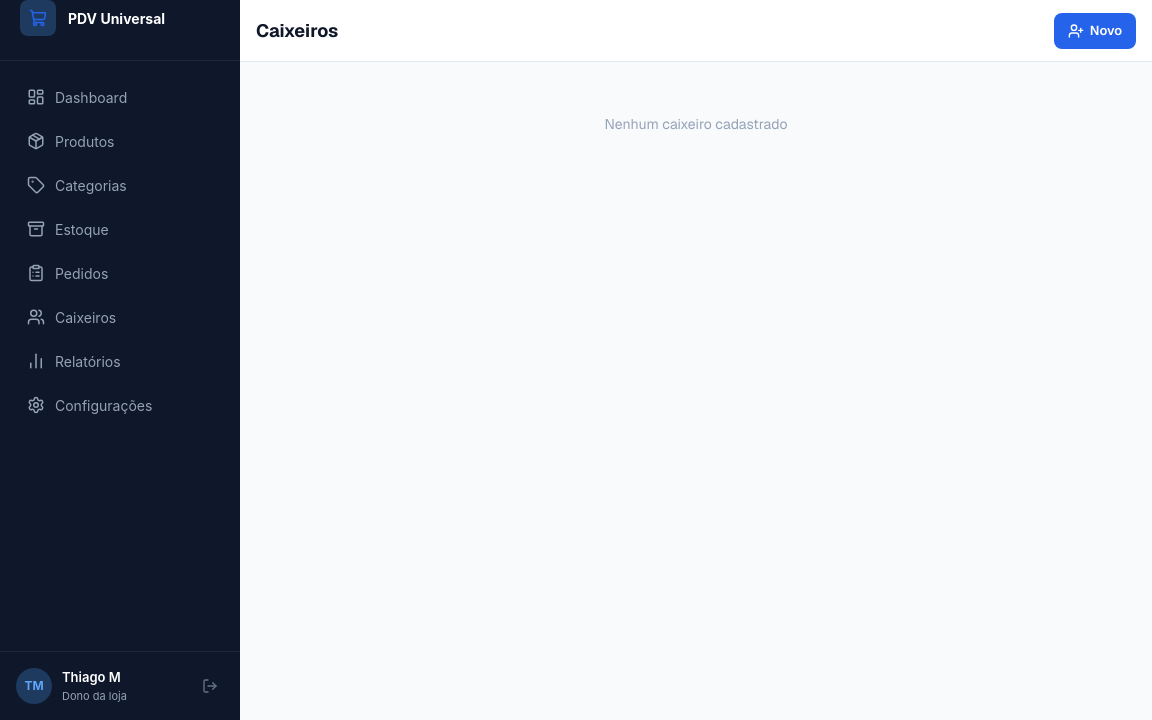
Test: UsuariosPage › shows error message when creation fails
Click the button "Novo" at (1095, 30), box [1054, 12, 1136, 48]
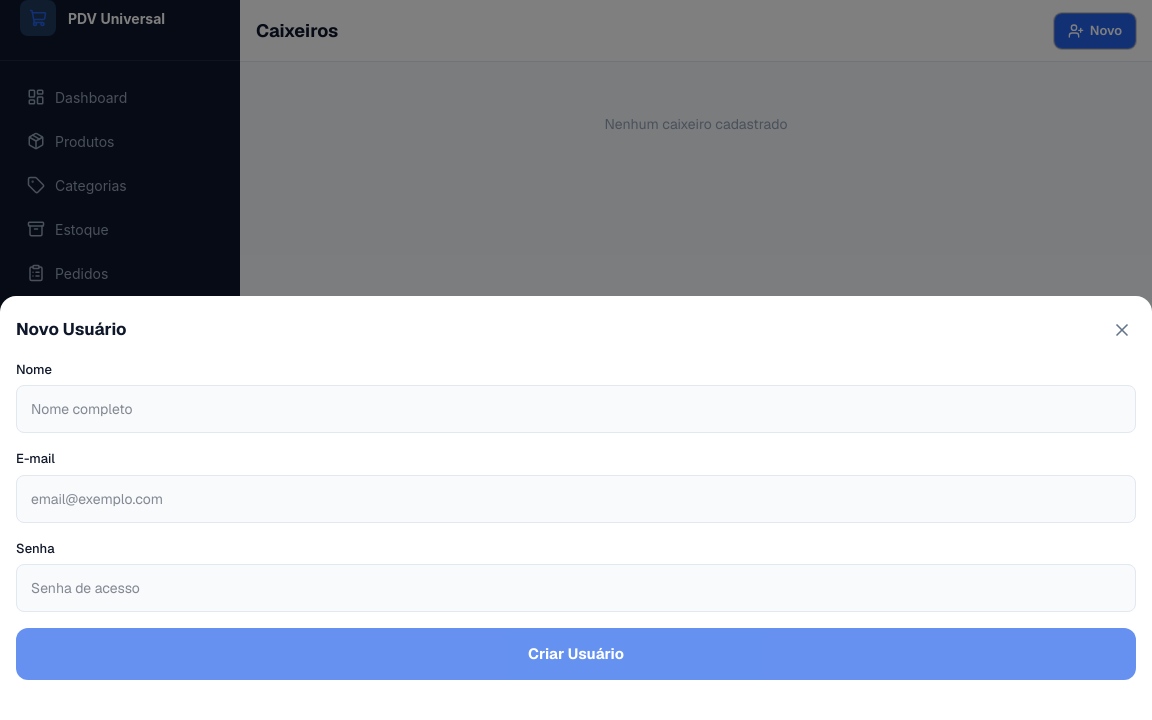
Type "Ana Lima" into the field with placeholder "Nome completo" at (576, 409), box [16, 385, 1136, 433]
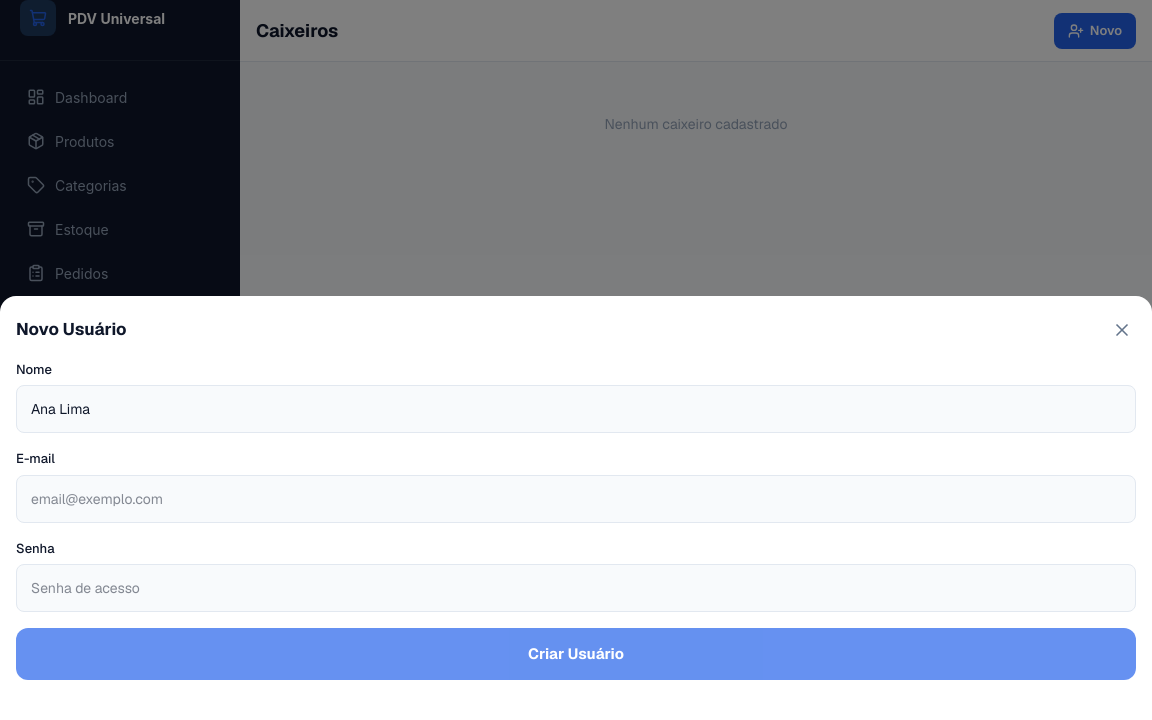
Type "ana@loja.com" into the field with placeholder "email@exemplo.com" at (576, 498), box [16, 474, 1136, 522]
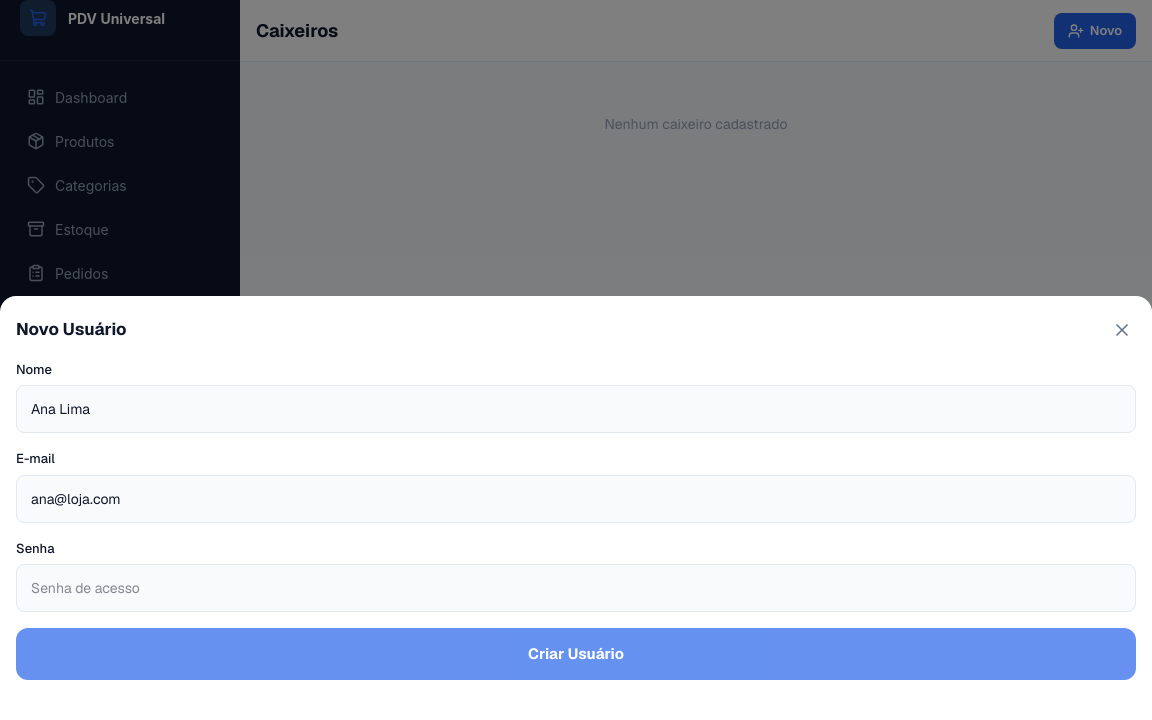
Type "senha123" into the password field with placeholder "Senha de acesso" at (576, 588), box [16, 564, 1136, 612]
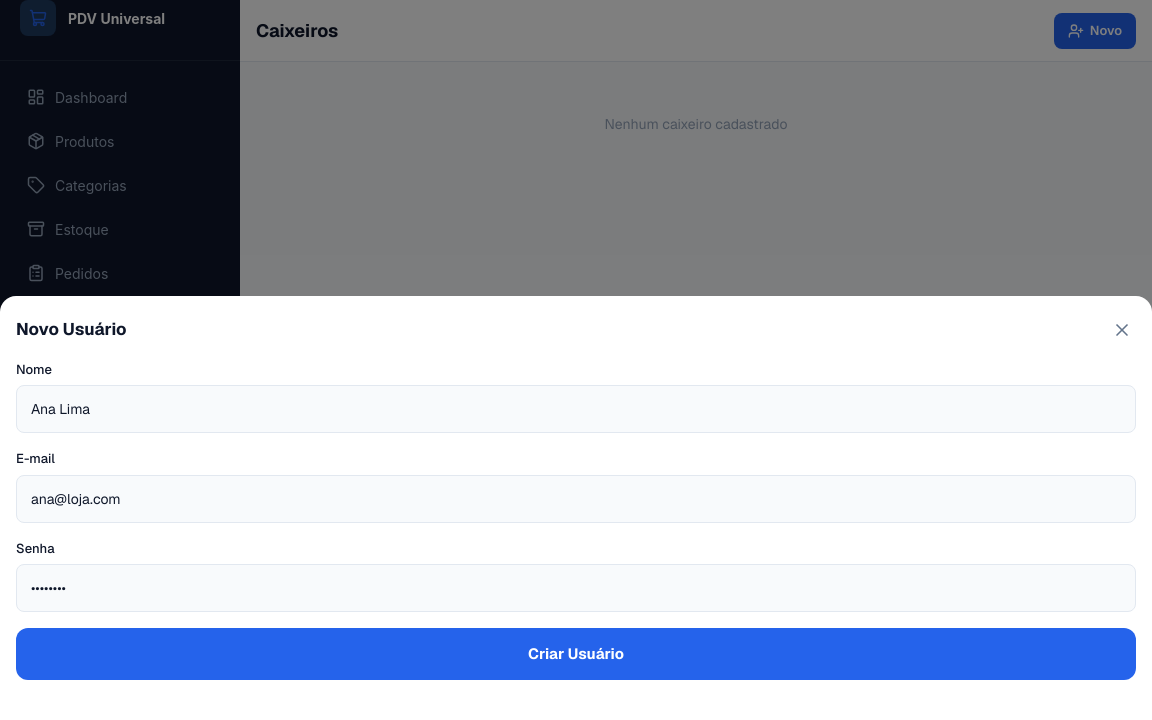
Click the button "Criar Usuário" at (576, 654), box [16, 628, 1136, 680]
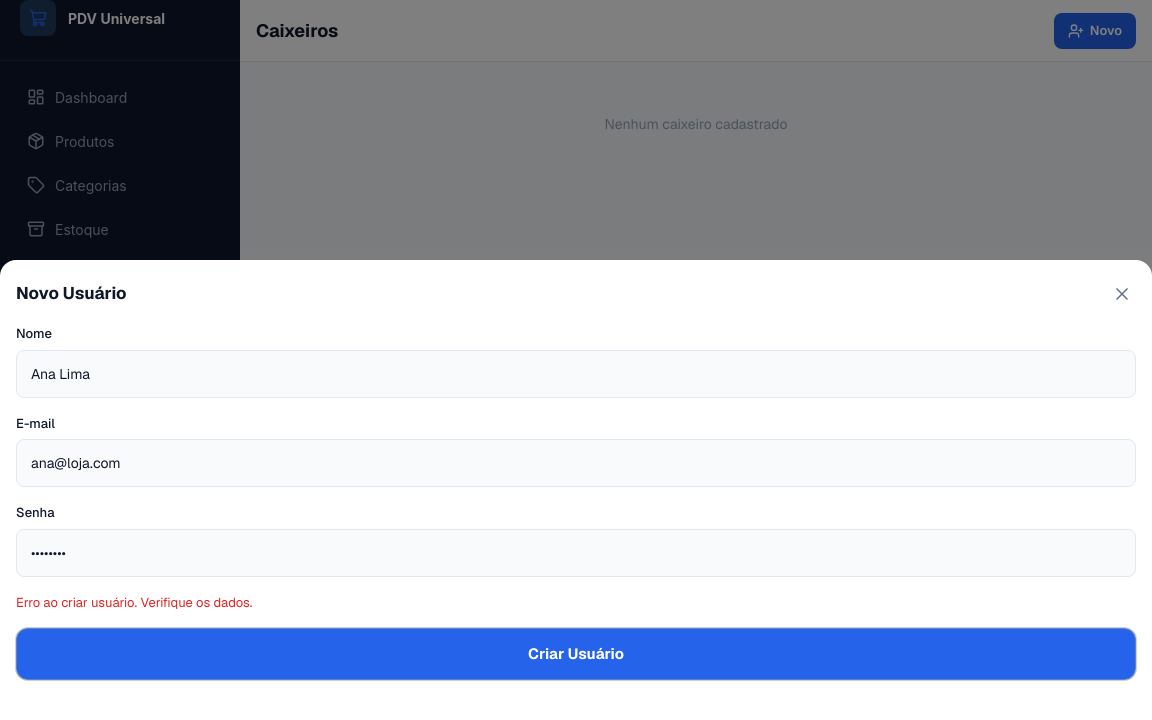
Check: the text "Erro ao criar usuário. Verifique os dados." is shown, box [16, 594, 252, 610]
